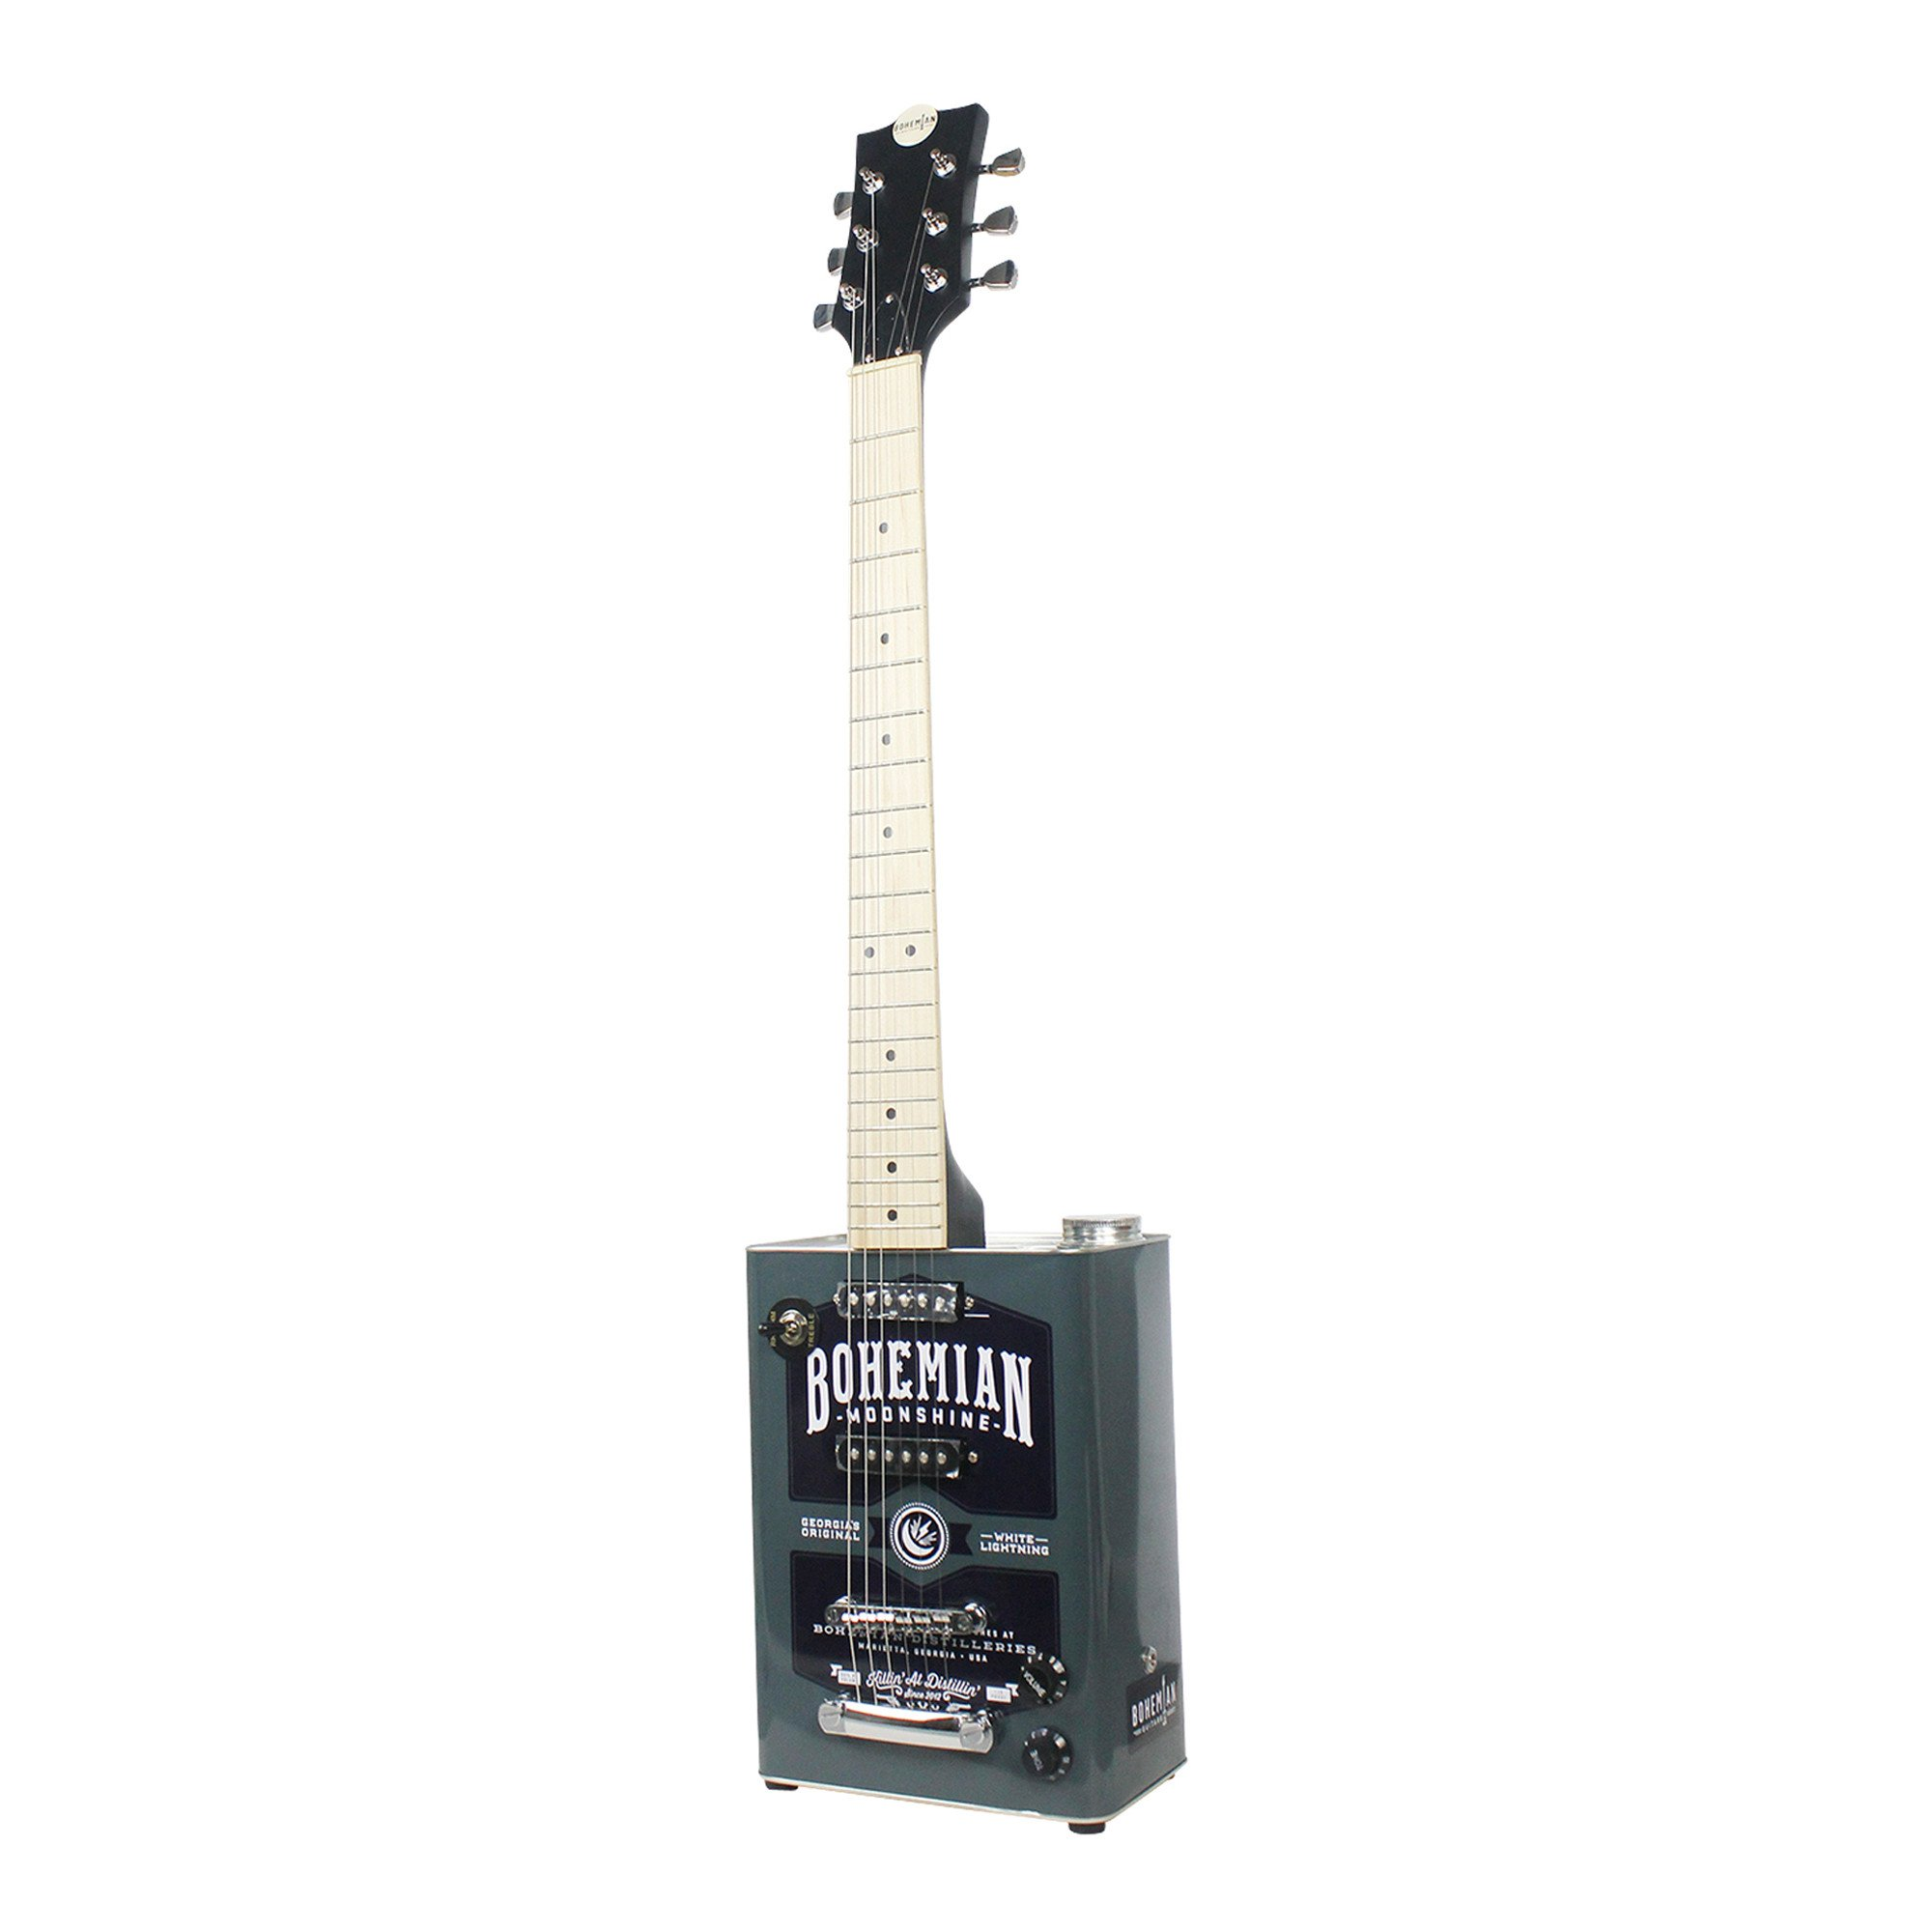ElectricGuitar: (725, 88, 1194, 1847)
